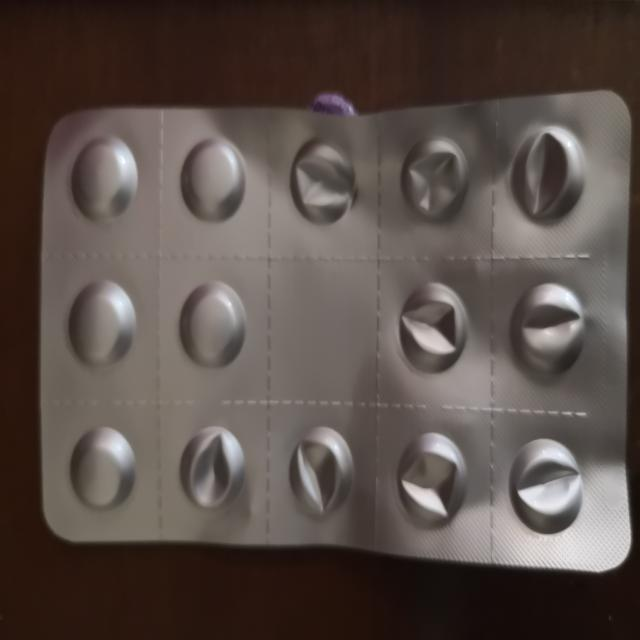Empty: (504, 426, 590, 542), (507, 122, 593, 230), (509, 277, 591, 383), (393, 424, 472, 534), (390, 276, 478, 374), (391, 130, 477, 226), (283, 414, 355, 527), (280, 136, 364, 232), (174, 415, 250, 519)
Pill: (59, 274, 140, 372), (174, 132, 252, 229), (174, 270, 248, 371), (64, 422, 142, 516), (67, 135, 139, 227)
